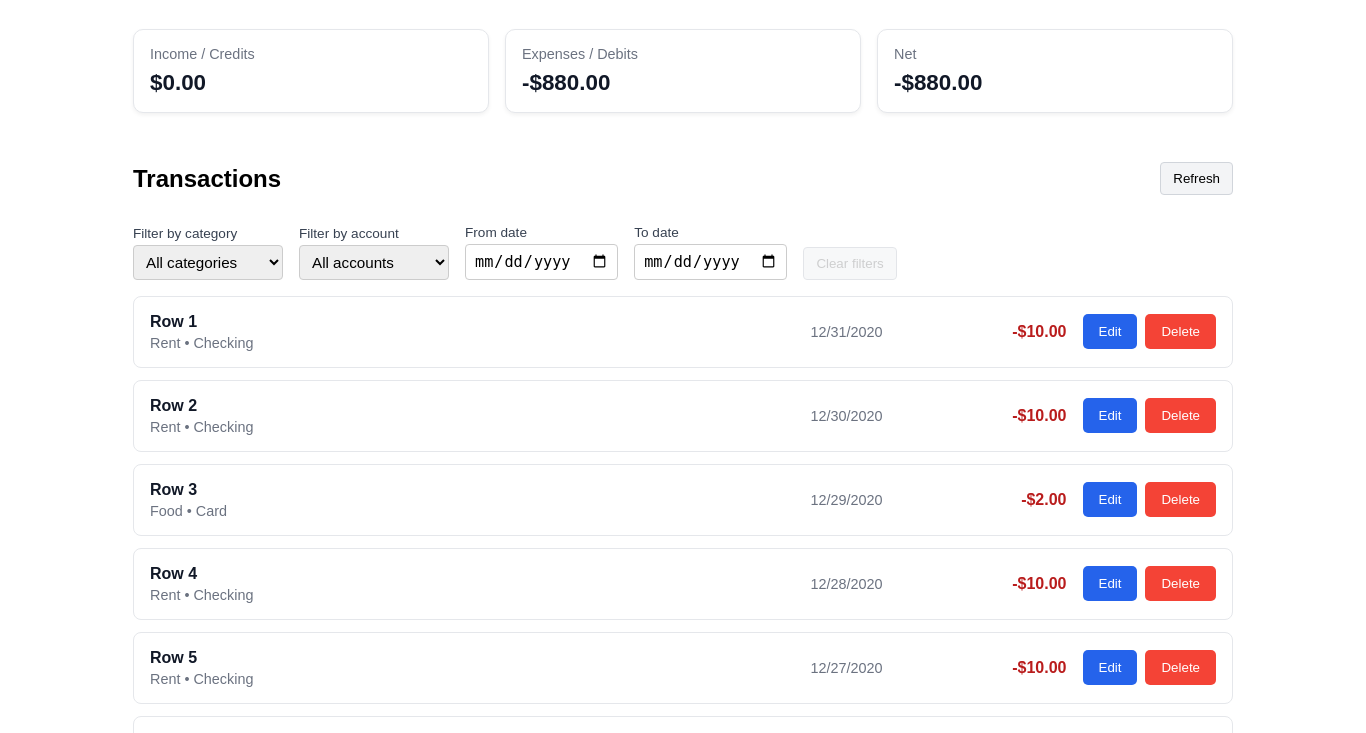
filtering › narrows the list and the totals, and Load more stays within the filter
Select "Food" in the dropdown labelled "Filter by category". click: (208, 262)
box: x1=133 y1=245 x2=283 y2=280
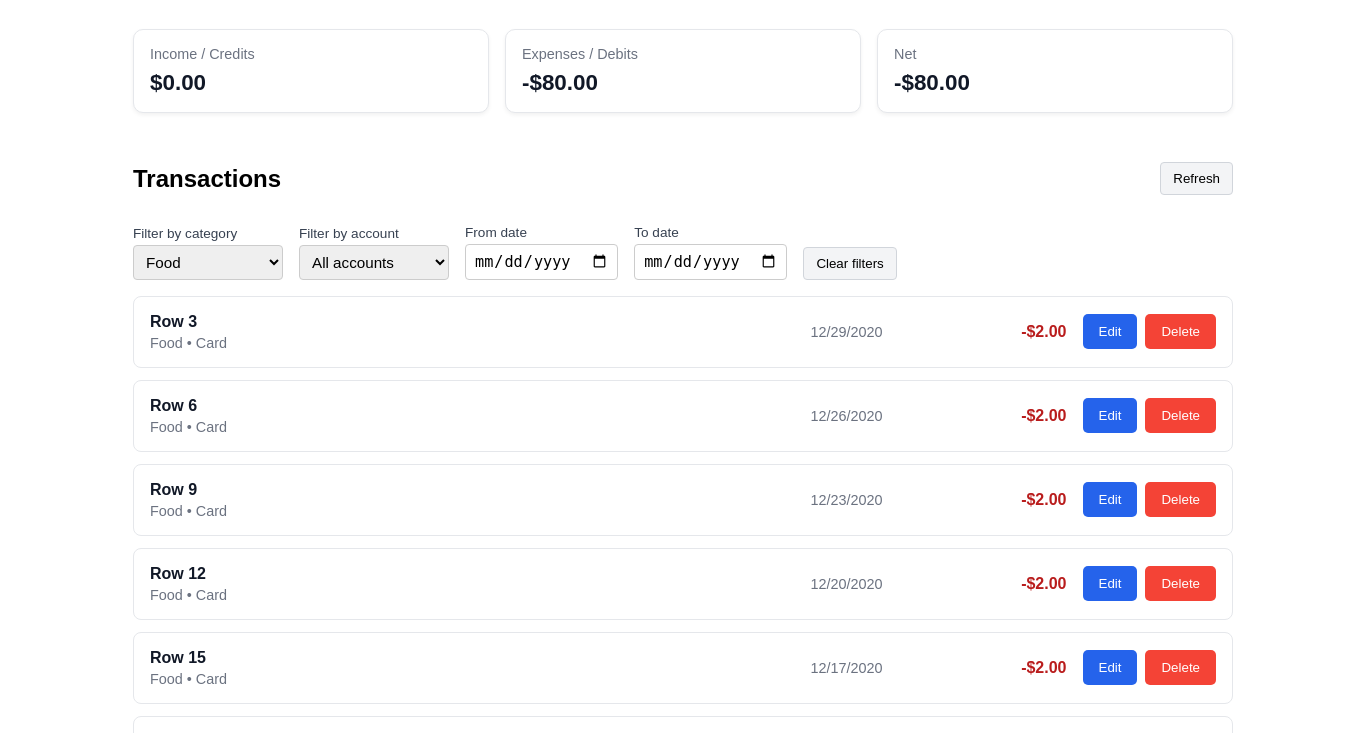
Expected: the button "Load more" is not shown
Click the button "Clear filters". click: (850, 263)
box: x1=803 y1=247 x2=897 y2=280
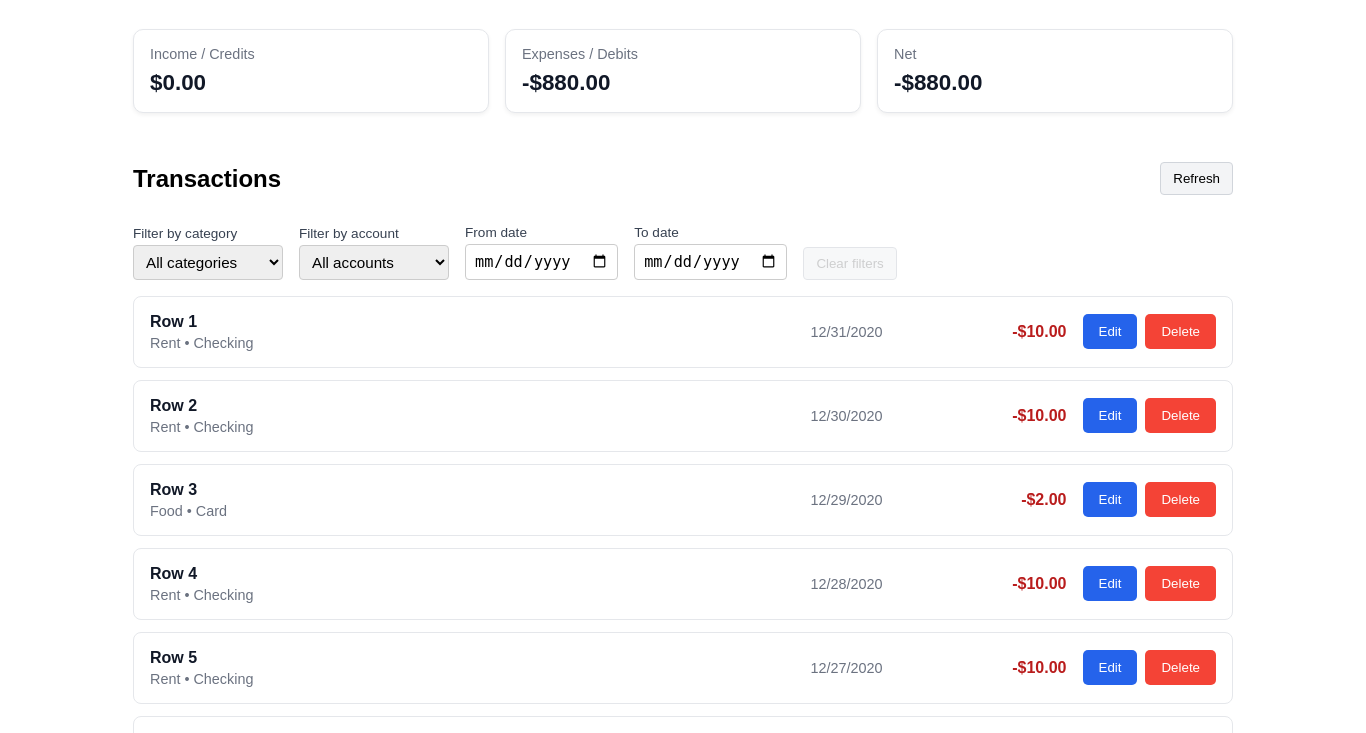
Select "Checking" in the dropdown labelled "Filter by account". click: (374, 262)
box: x1=299 y1=245 x2=449 y2=280
(page scrolled)
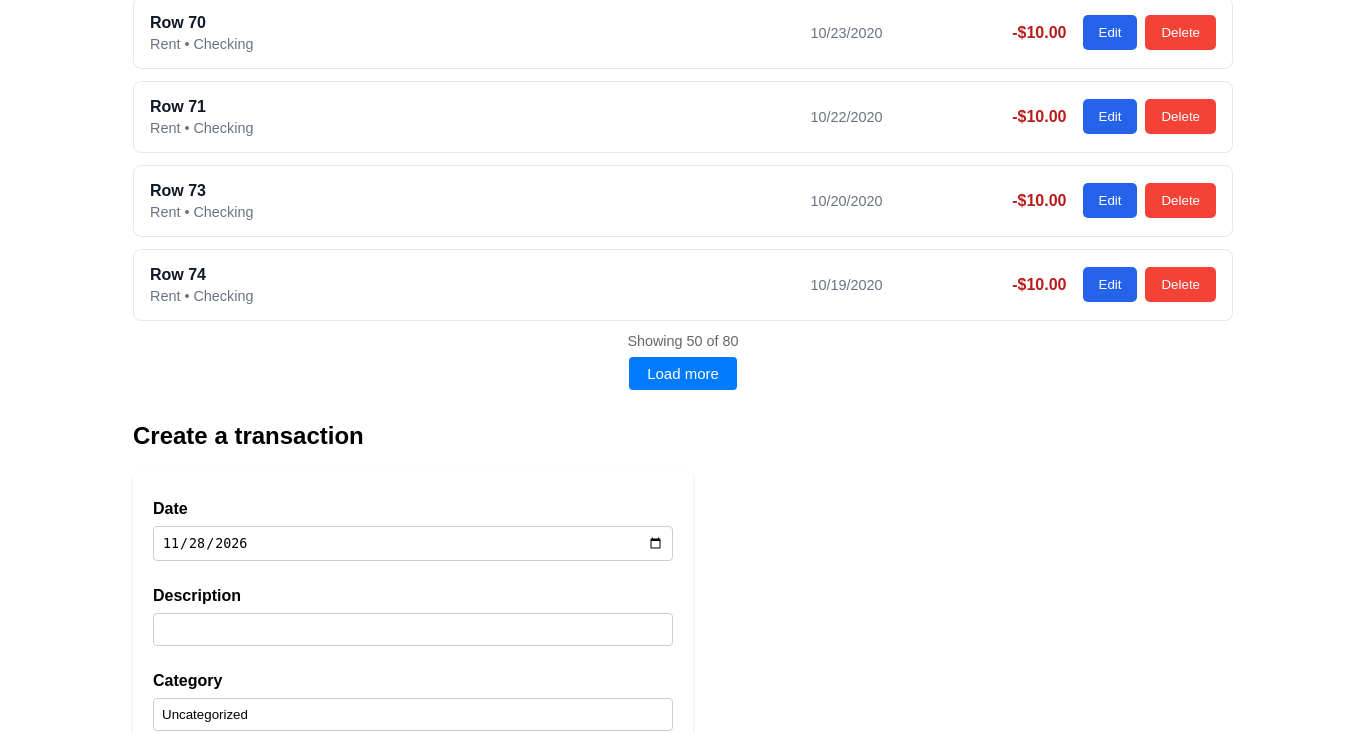
Result: the text "Showing 50 of 80" is shown at x1=627 y1=333 x2=739 y2=349
Click the button "Load more". click: (683, 373)
box: x1=629 y1=357 x2=737 y2=390
(page scrolled)
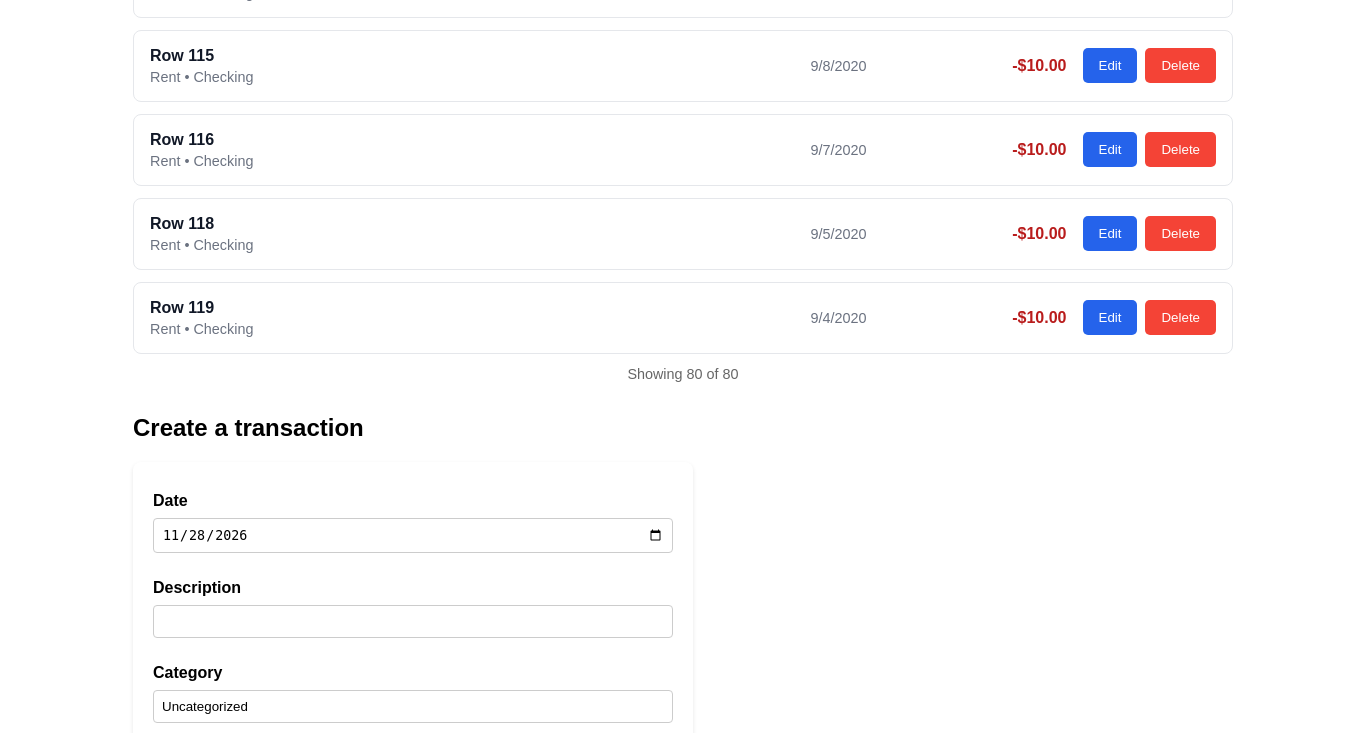
Result: the text "Showing 80 of 80" is shown at x1=627 y1=366 x2=739 y2=382
